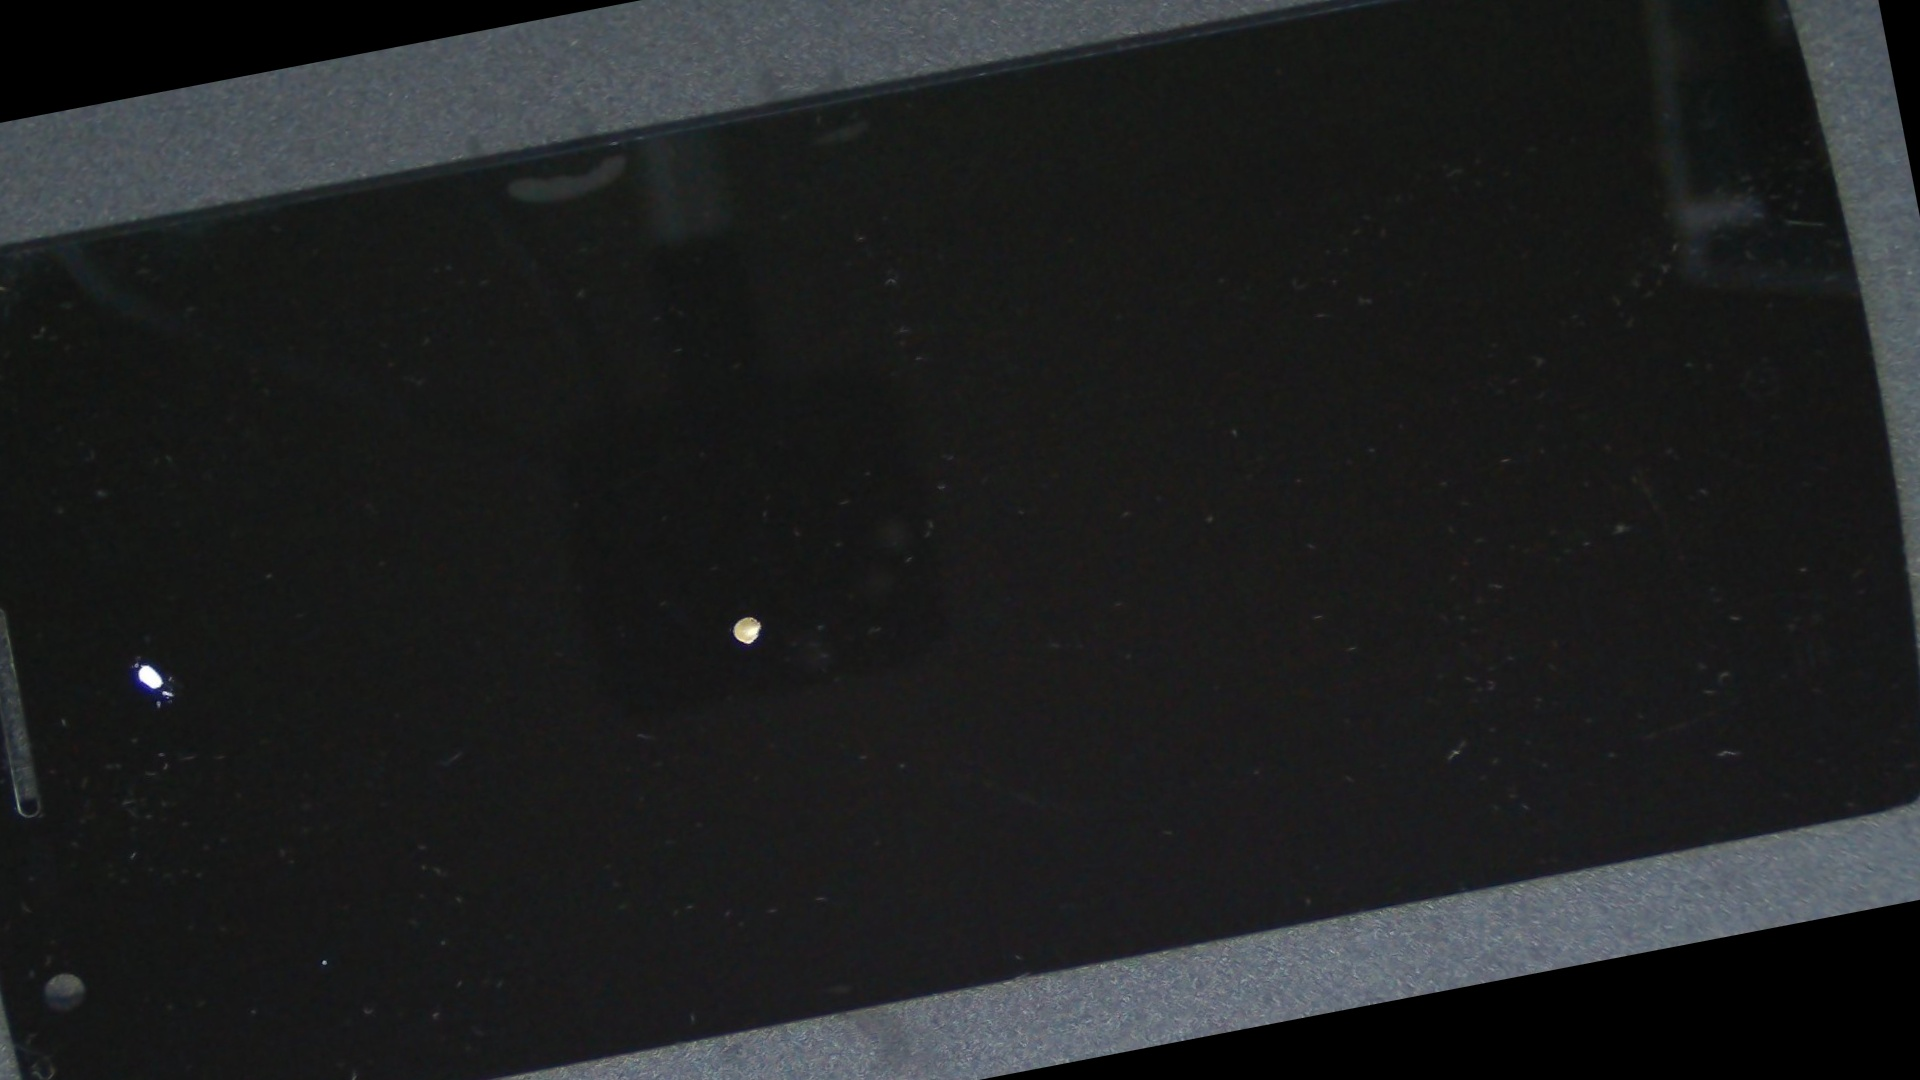oil: (222, 222, 1263, 1013), (0, 353, 357, 956)
